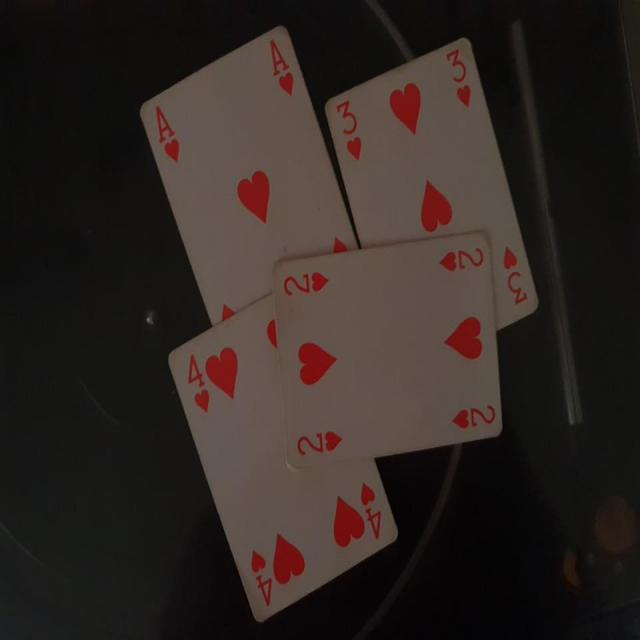2 Hearts: (266, 231, 506, 472)
3 Hearts: (321, 38, 543, 342)
4 Hearts: (165, 284, 404, 620)
A Hearts: (132, 21, 373, 330)
